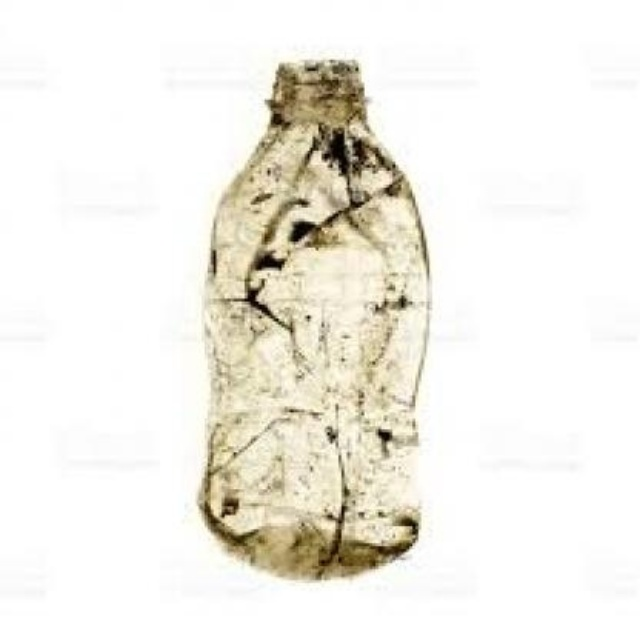trash: (200, 60, 428, 577)
